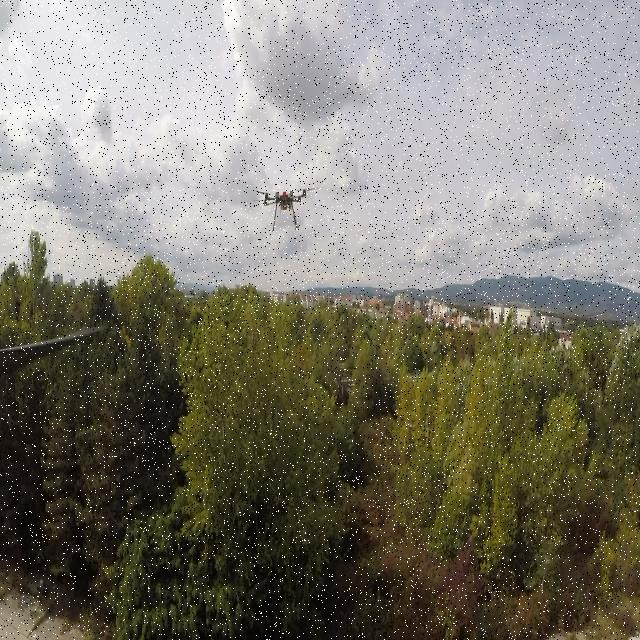UAV: (247, 173, 321, 238)
